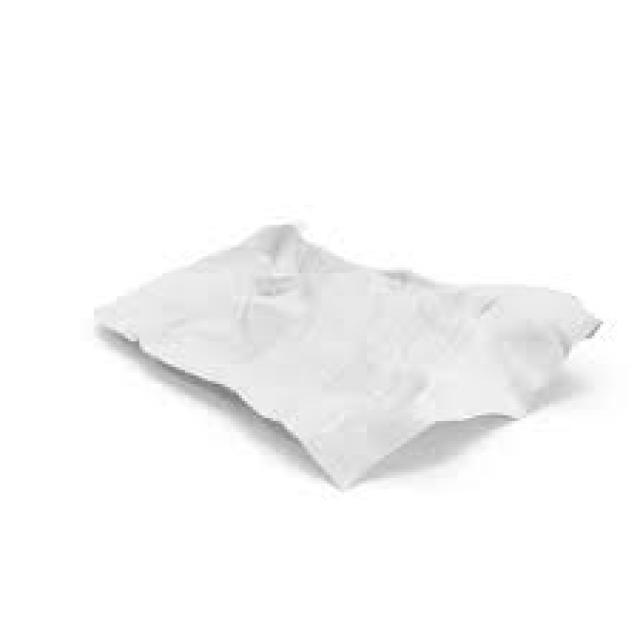paper: (99, 219, 606, 484)
